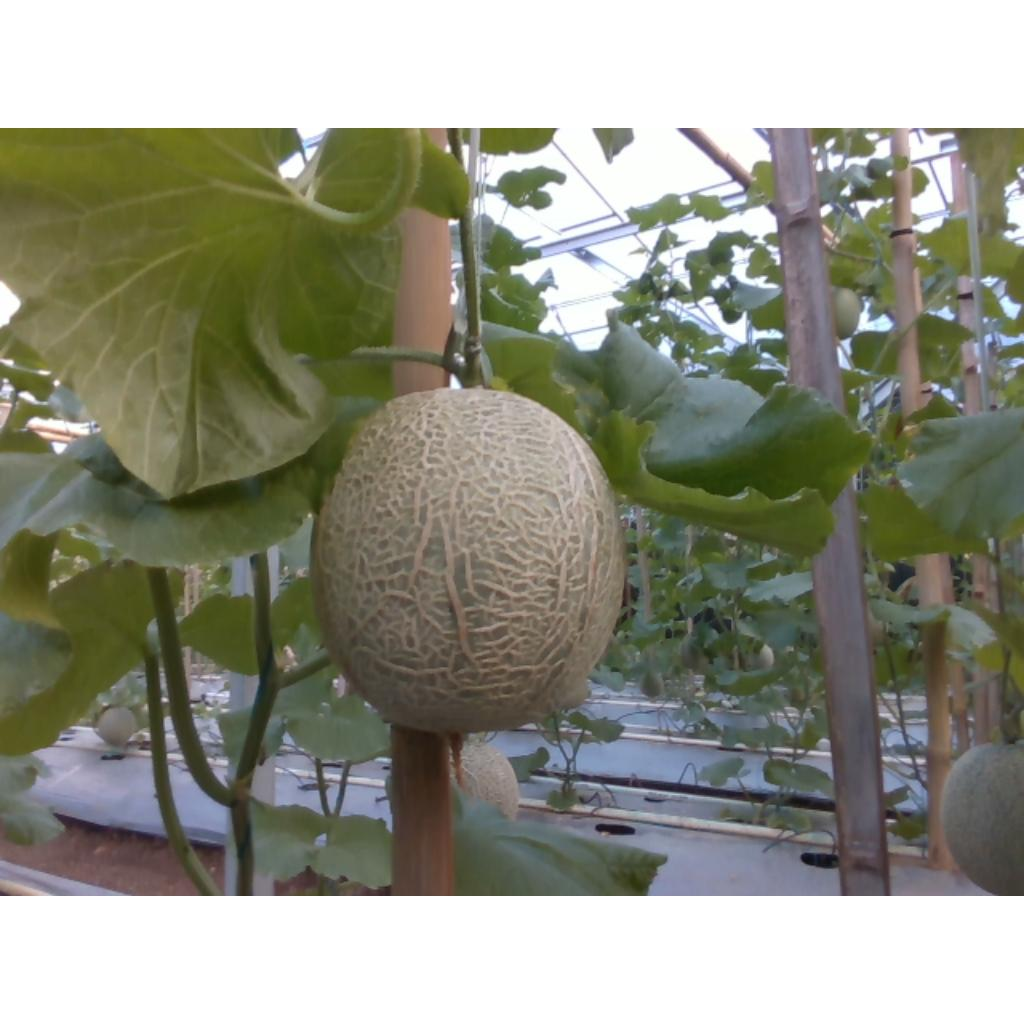melon: (312, 389, 626, 735)
